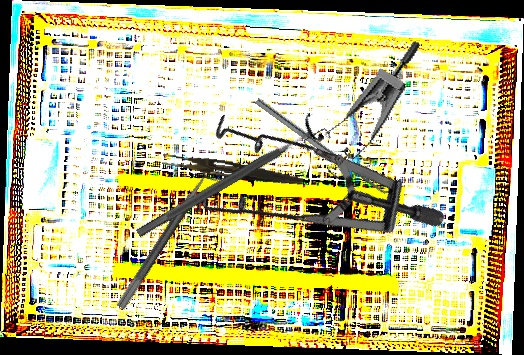Dressing Forceps: (160, 152, 305, 188)
Fixation Ring: (129, 111, 326, 248), (115, 159, 231, 319)
Spatula Surgical: (254, 92, 397, 201)
Speculum: (160, 52, 449, 343), (294, 15, 424, 191)
